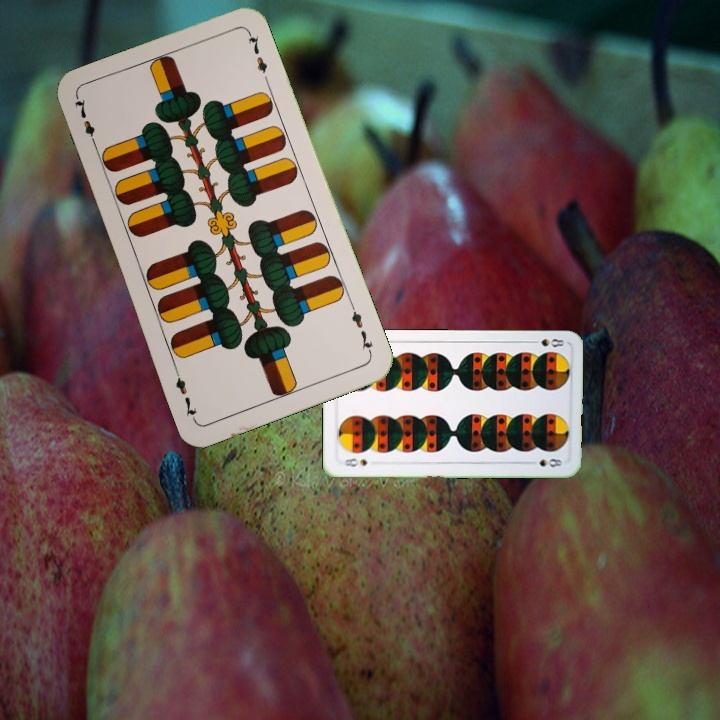E7: (346, 300, 376, 357), (70, 94, 100, 151)
S8: (526, 334, 567, 349), (340, 454, 369, 469)
